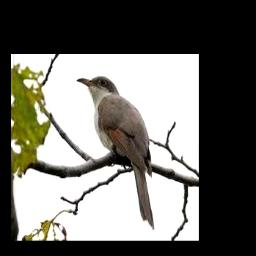Cuckoo: (76, 76, 154, 229)
